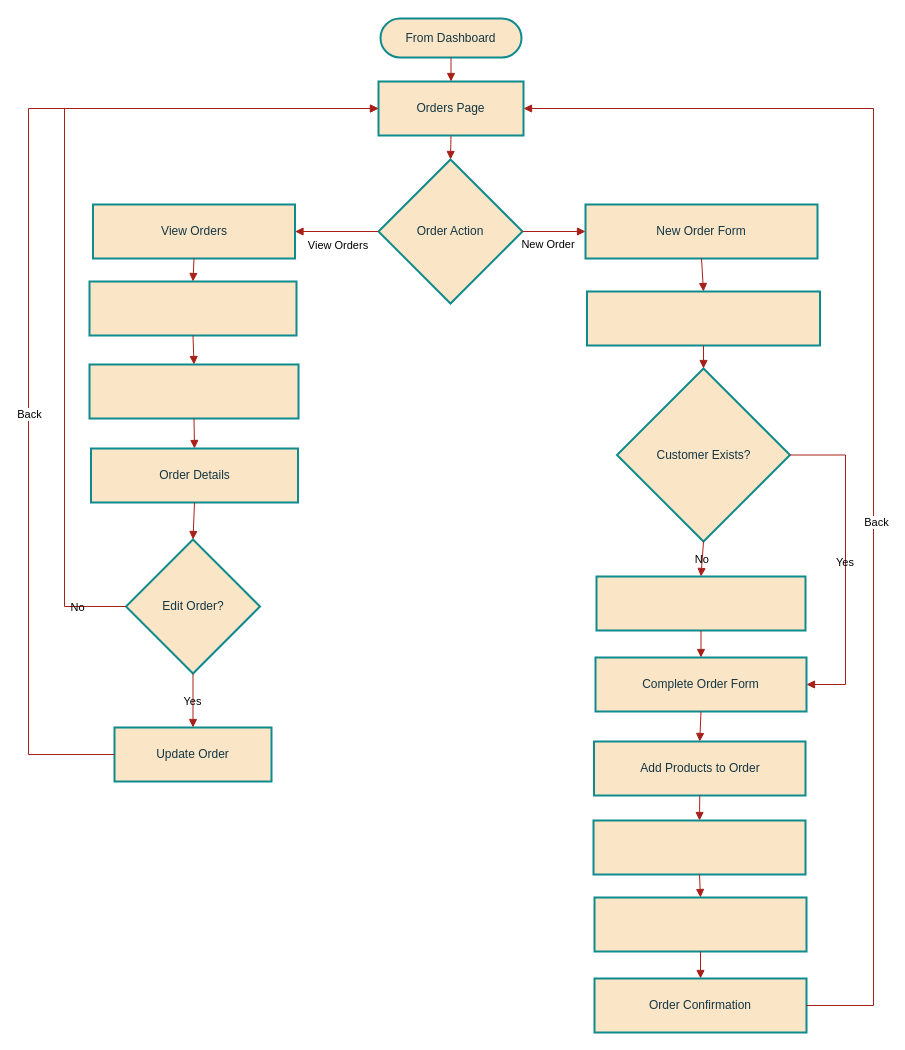
The diagram is 905 pixels wide and 1050 high, and some of its shapes have lost their labels. Each missing label, with the centre of its shape:
Add New Customer: the point at 700,603
Filter/Search Orders: the point at 192,308
Save Order: the point at 700,924
Search/Select Customer: the point at 703,318
Select Order to View: the point at 193,391
Set Delivery Date/Time: the point at 699,847
